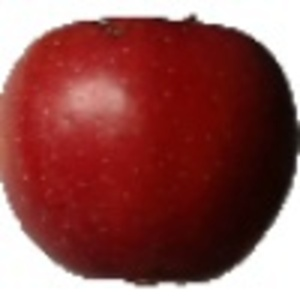maçã braeburn: (1, 13, 297, 287)
